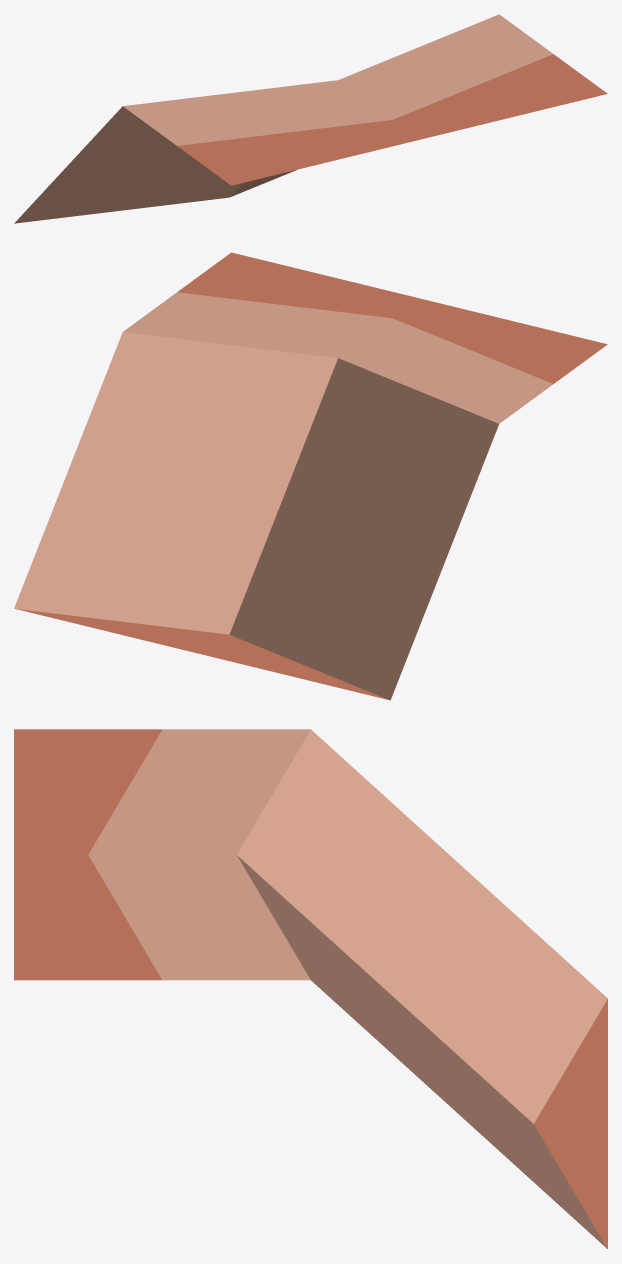
File: terrain_sideCliff.glb
The picture shows the model from 3 angles, top to bottom: view 1: azimuth 30°, elevation 25°; view 2: azimuth 150°, elevation 25°; view 3: azimuth 270°, elevation 25°; orthographic projection. The views are drawn at different scales.
Parts seen in each view (by area): view 1: terrain_sideCliff; view 2: terrain_sideCliff; view 3: terrain_sideCliff.
Part boxes in pixels (bbox=[...]): terrain_sideCliff: bbox=[14, 14, 607, 223]; terrain_sideCliff: bbox=[14, 252, 607, 700]; terrain_sideCliff: bbox=[14, 729, 607, 1248].
Bounding box in the file's own units: 1 × 0.5 × 1.
